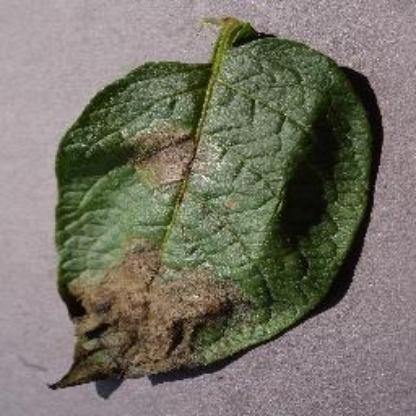Late-Blight: (43, 14, 379, 392)
